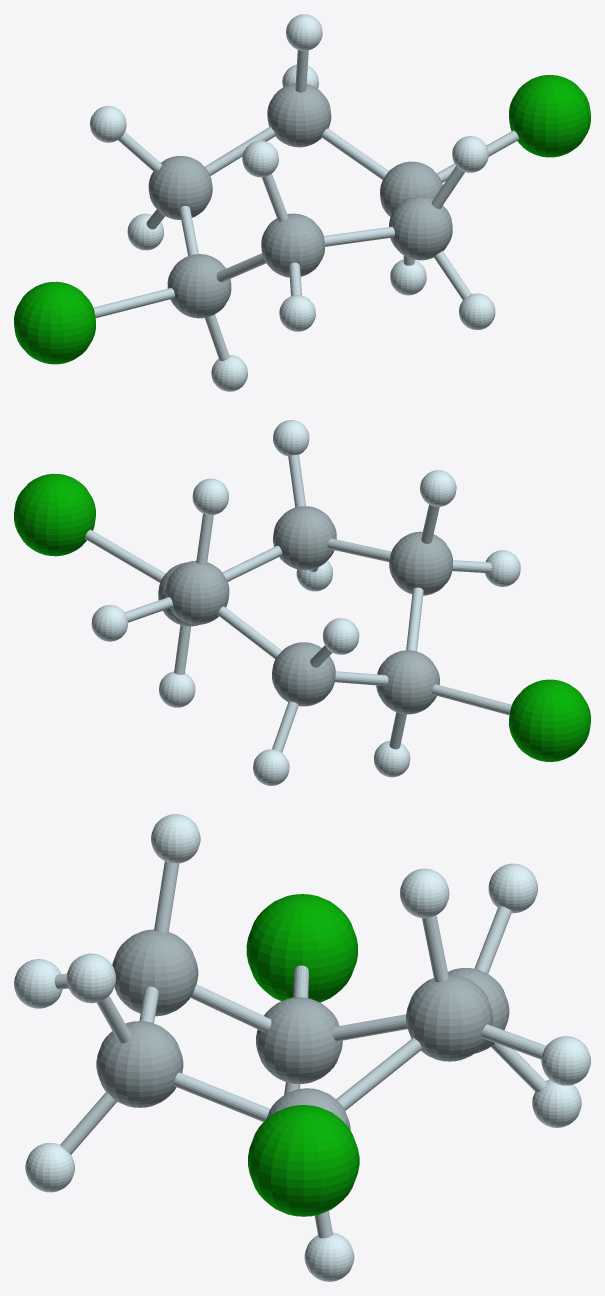
Rendered from irc_step_125.glb.
The picture shows the model from 3 angles, top to bottom: view 1: azimuth 30°, elevation 25°; view 2: azimuth 150°, elevation 25°; view 3: azimuth 270°, elevation 25°; orthographic projection. The views are drawn at different scales.
Parts seen in each view (by area): view 1: Renderer Node; view 2: Renderer Node; view 3: Renderer Node.
Boxes of the visible parts, x1,y1,x2,y2 form: Renderer Node: [14, 14, 590, 391]; Renderer Node: [14, 420, 590, 785]; Renderer Node: [14, 814, 590, 1281].
Bounding box in the file's own units: 7.11 × 3.64 × 4.64.
